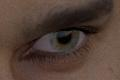eye: (50, 29, 80, 52)
